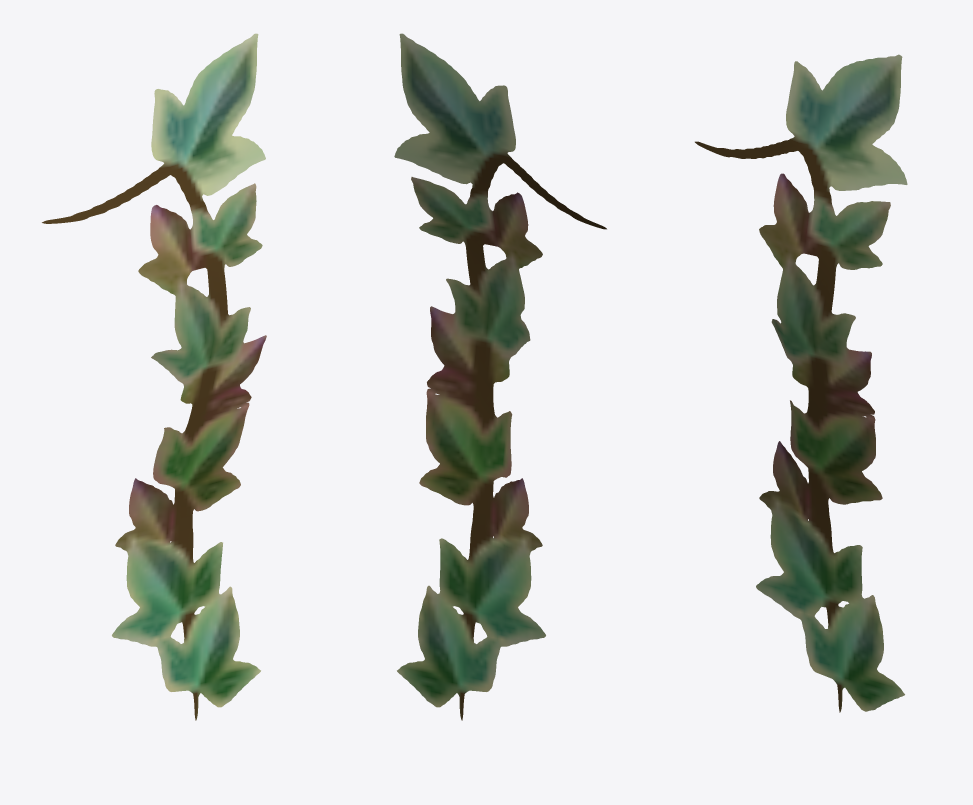
File: lierres_gr_2.fbx
The picture shows the model from 3 angles, left to right: view 1: azimuth 30°, elevation 25°; view 2: azimuth 150°, elevation 25°; view 3: azimuth 330°, elevation 25°; orthographic projection.
Parts seen in each view (by area): view 1: Lierres; view 2: Lierres; view 3: Lierres.
Part boxes in pixels (x1=…): Lierres: x1=42, y1=33, x2=266, y2=720; Lierres: x1=394, y1=33, x2=606, y2=720; Lierres: x1=695, y1=54, x2=907, y2=712.
Size of the model in its own units: 28.39 by 70.61 by 5.39.
